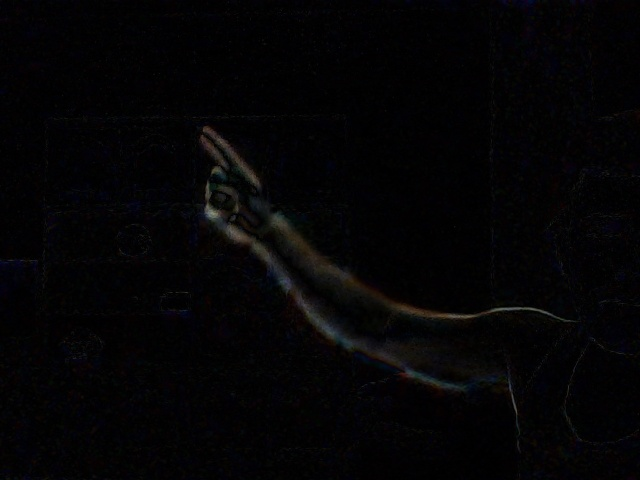hand_po: (192, 115, 272, 258)
